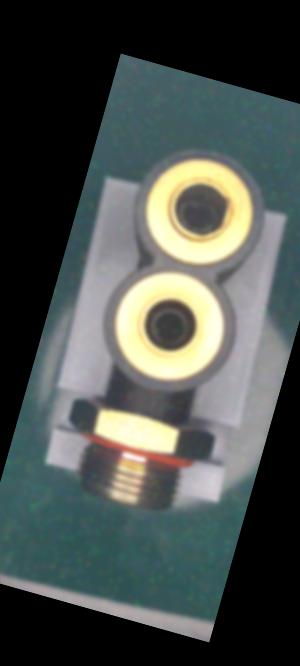craze: (140, 400, 159, 422)
off-centered: (166, 187, 226, 241)
